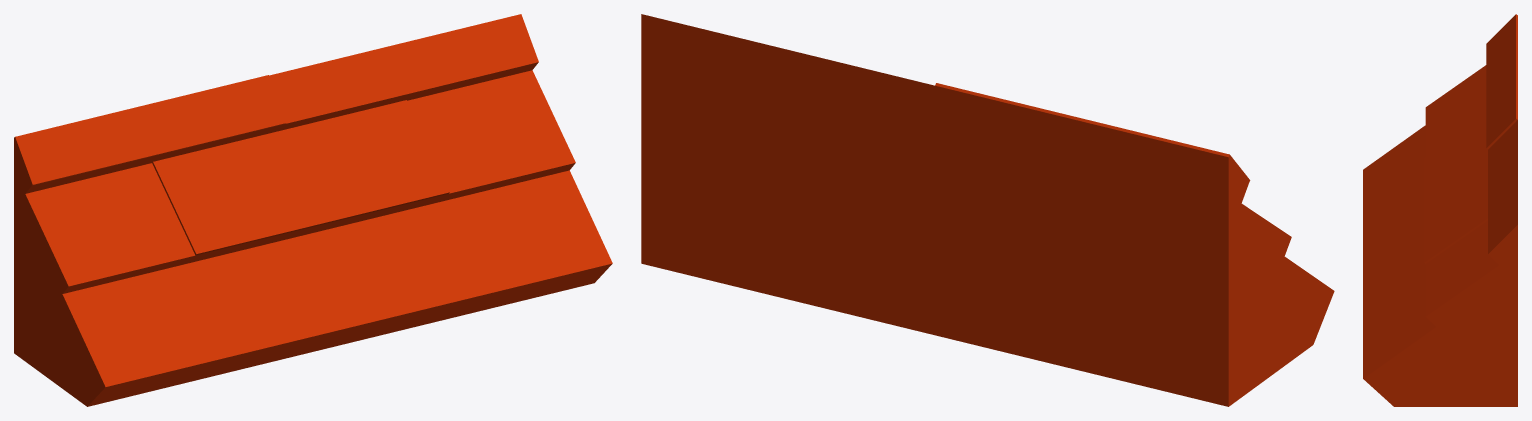
The model's file is Building_Facade_Modular_Roof_01.fbx.
The picture shows the model from 3 angles, left to right: view 1: azimuth 30°, elevation 25°; view 2: azimuth 150°, elevation 25°; view 3: azimuth 270°, elevation 25°; orthographic projection. The views are drawn at different scales.
Visible parts, largest first — view 1: Building_Facade_Modular_Roof_01; view 2: Building_Facade_Modular_Roof_01; view 3: Building_Facade_Modular_Roof_01.
Part boxes in pixels (<box>): Building_Facade_Modular_Roof_01: <box>14,14,612,406</box>; Building_Facade_Modular_Roof_01: <box>641,14,1334,406</box>; Building_Facade_Modular_Roof_01: <box>1363,14,1517,406</box>.
Size of the model in its own units: 1868 by 765 by 584.
